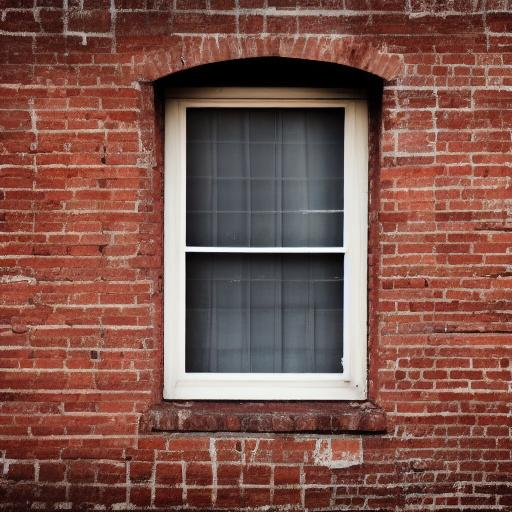Window: (141, 33, 405, 437)
